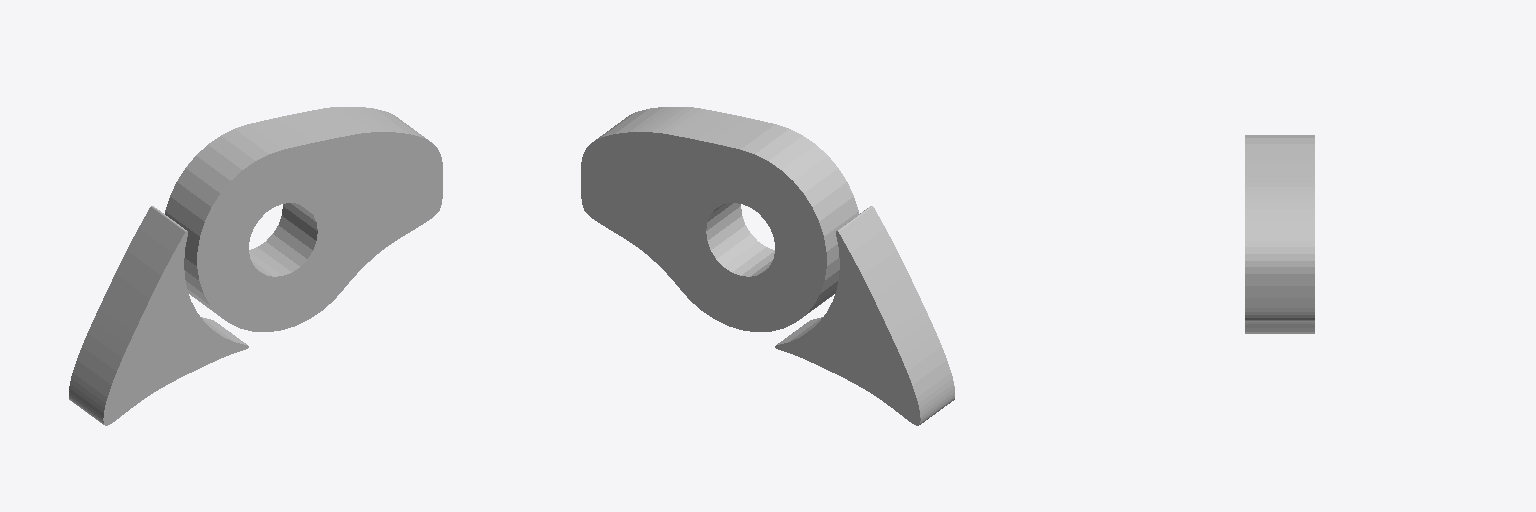
3 views of the same model, side by side, from view 1: azimuth 30°, elevation 25°; view 2: azimuth 150°, elevation 25°; view 3: azimuth 270°, elevation 25° (orthographic).
Visible parts, largest first — view 1: Body2, Body1; view 2: Body2, Body1; view 3: Body2.
Boxes of the visible parts, box(x1,y1,x2,y2) form: Body2: box(165, 107, 442, 331); Body1: box(69, 206, 248, 425); Body2: box(581, 107, 858, 331); Body1: box(775, 206, 954, 425); Body2: box(1245, 135, 1314, 333).
Bounding box in the file's own units: 3.94 × 2.59 × 0.7.